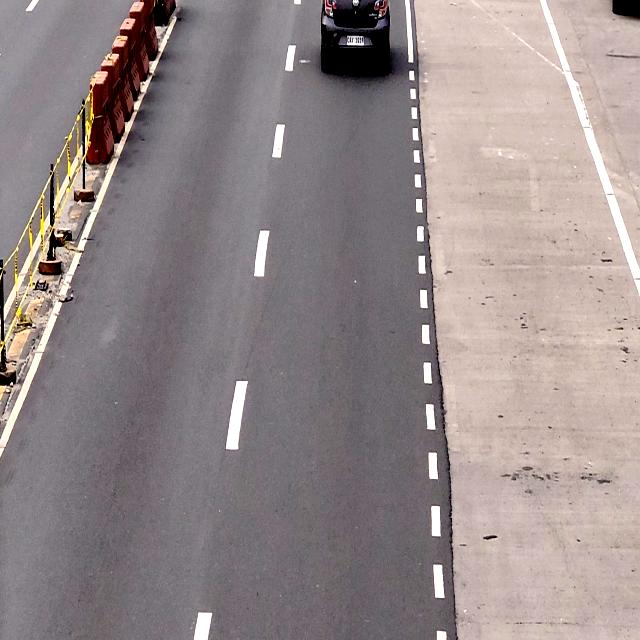Car: (321, 0, 390, 70)
License-Plate: (345, 33, 365, 49)
